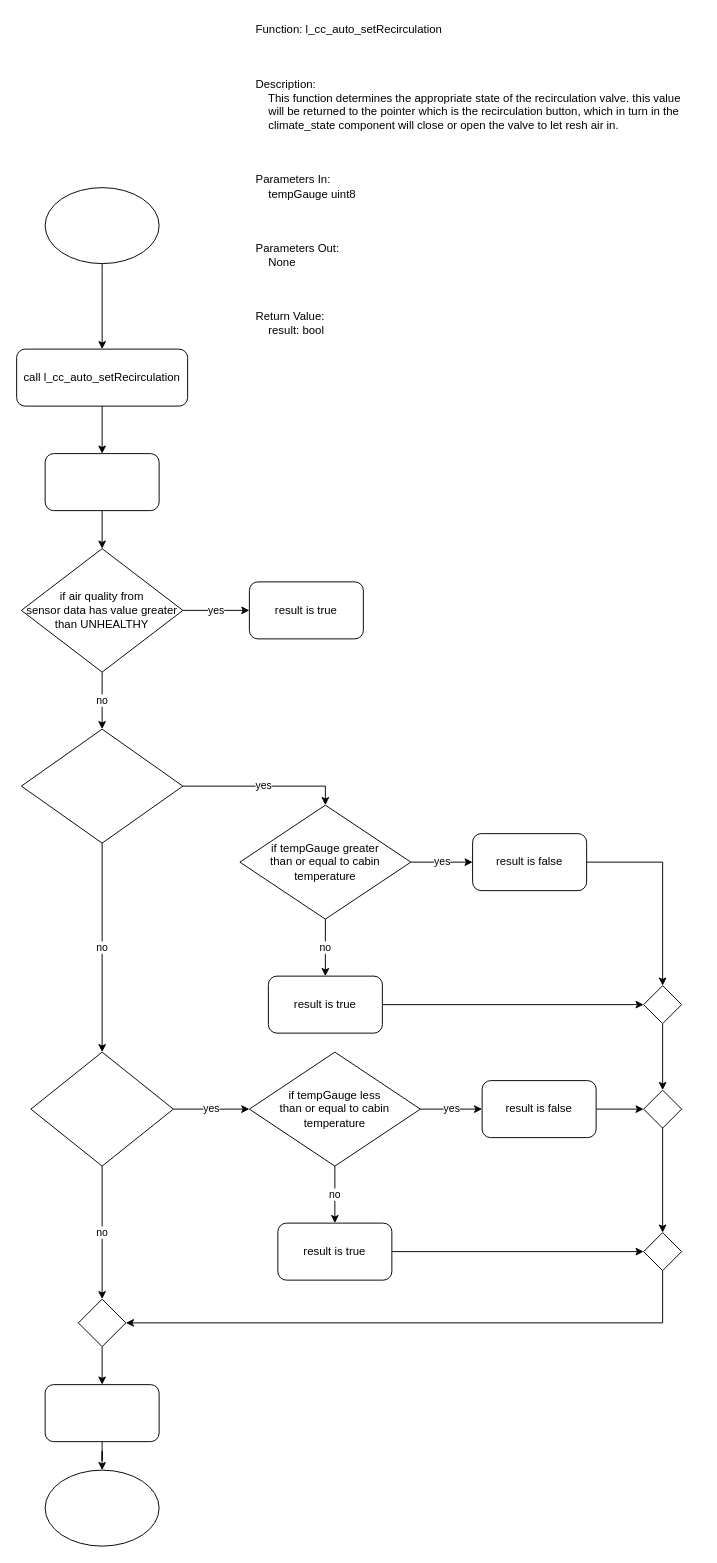
Image size: 717x1563. Some labels were removed from this diagram. The shapes that lost their labels are listed below. From the top down, each one's box as (x1, y1, x2, y2) in pixels, then its label:
(44, 453, 159, 511): declare boolean result and assign it to false
(20, 728, 183, 843): if weatherState is equal to hot
(30, 1051, 173, 1166): if weatherState equal to freezing
(44, 1384, 159, 1442): return result
